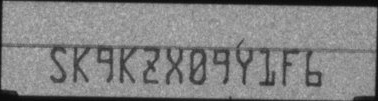0: (188, 47, 206, 85)
1: (258, 47, 276, 86)
6: (304, 47, 323, 87)
9: (96, 45, 114, 83), (212, 47, 230, 85)
F: (281, 46, 300, 87)
K: (119, 47, 138, 84), (73, 46, 91, 83)
S: (49, 45, 67, 82)
X: (164, 45, 184, 85)
Y: (234, 46, 255, 86)
Z: (142, 46, 159, 84)
